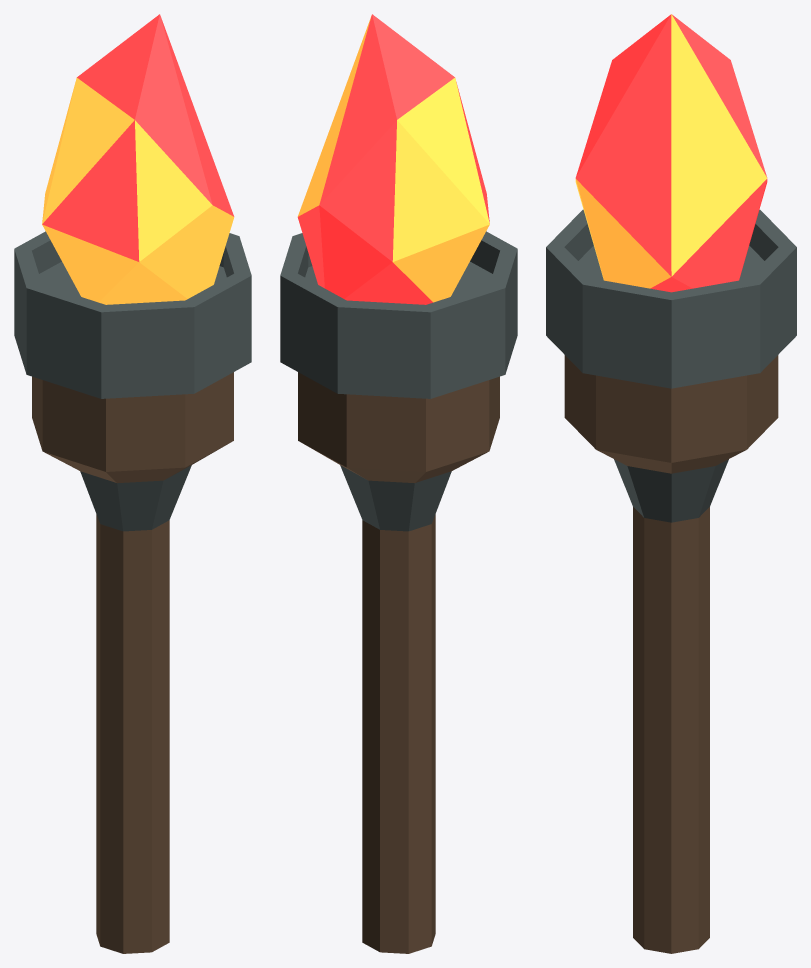
Rendered from Torch_5_Brown.fbx.
3 views of the same model, side by side, from view 1: azimuth 30°, elevation 25°; view 2: azimuth 150°, elevation 25°; view 3: azimuth 270°, elevation 25° (orthographic). The views are drawn at different scales.
Visible parts, largest first — view 1: Torch_5_Brown_Part_1, Torch_5_Brown_Part_2, Torch_5_Brown_Part_4, Torch_5_Brown_Part_3; view 2: Torch_5_Brown_Part_1, Torch_5_Brown_Part_2, Torch_5_Brown_Part_3, Torch_5_Brown_Part_4; view 3: Torch_5_Brown_Part_1, Torch_5_Brown_Part_2, Torch_5_Brown_Part_3, Torch_5_Brown_Part_4.
Part boxes in pixels (box(x1,y1,x2,y2)): Torch_5_Brown_Part_1: box(32, 372, 233, 953); Torch_5_Brown_Part_2: box(14, 231, 251, 531); Torch_5_Brown_Part_4: box(42, 78, 234, 304); Torch_5_Brown_Part_3: box(42, 14, 234, 261); Torch_5_Brown_Part_1: box(298, 372, 499, 953); Torch_5_Brown_Part_2: box(280, 231, 517, 531); Torch_5_Brown_Part_3: box(297, 14, 489, 304); Torch_5_Brown_Part_4: box(297, 16, 489, 302); Torch_5_Brown_Part_1: box(564, 355, 778, 953); Torch_5_Brown_Part_2: box(546, 209, 796, 522); Torch_5_Brown_Part_3: box(575, 14, 767, 292); Torch_5_Brown_Part_4: box(575, 14, 767, 288).
Size of the model in its own units: 13.01 by 53.59 by 13.01.
